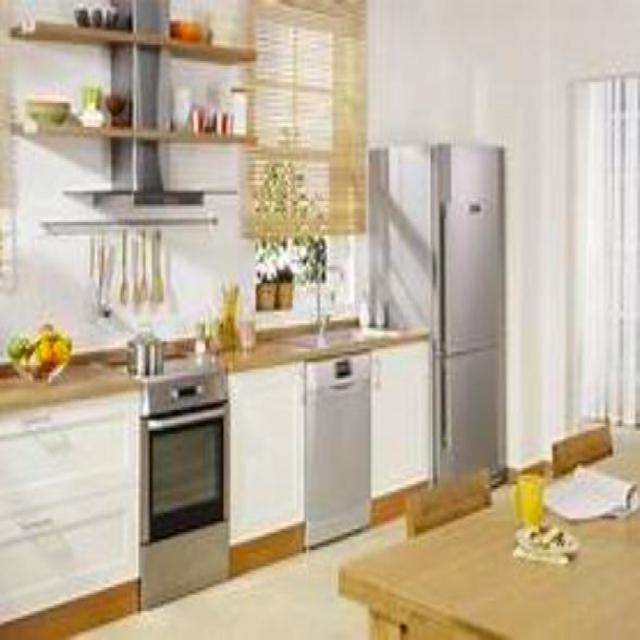dishwasher: (305, 348, 370, 548)
